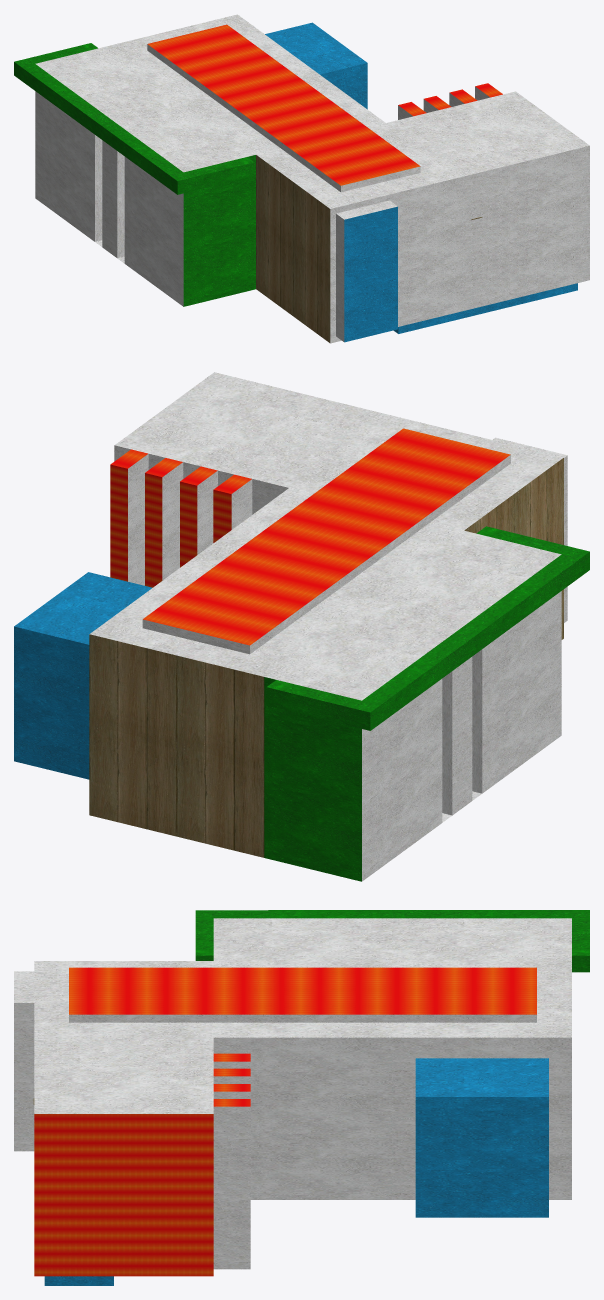
File: koupelna4.dae
3 views of the same model, one above another, from view 1: azimuth 30°, elevation 25°; view 2: azimuth 150°, elevation 25°; view 3: azimuth 270°, elevation 25° (orthographic). The views are drawn at different scales.
Visible parts, largest first — view 1: steny; view 2: steny; view 3: steny.
Boxes of the visible parts, x1,y1,x2,y2 form: steny: (14, 14, 589, 343); steny: (14, 372, 589, 881); steny: (14, 910, 589, 1285).
Size of the model in its own units: 6.85 by 8.18 by 2.89.
7 materials, 6 textured.
